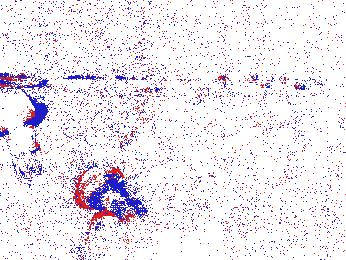flame jellyfish: (1, 83, 45, 182), (73, 164, 146, 220), (71, 211, 133, 260)
